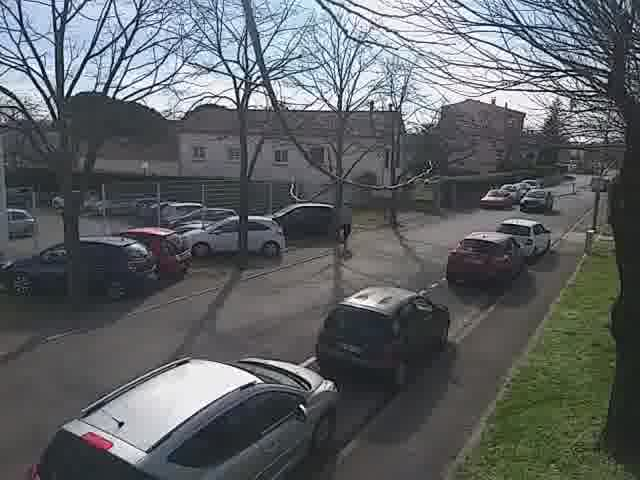persona: (336, 194, 357, 248)
